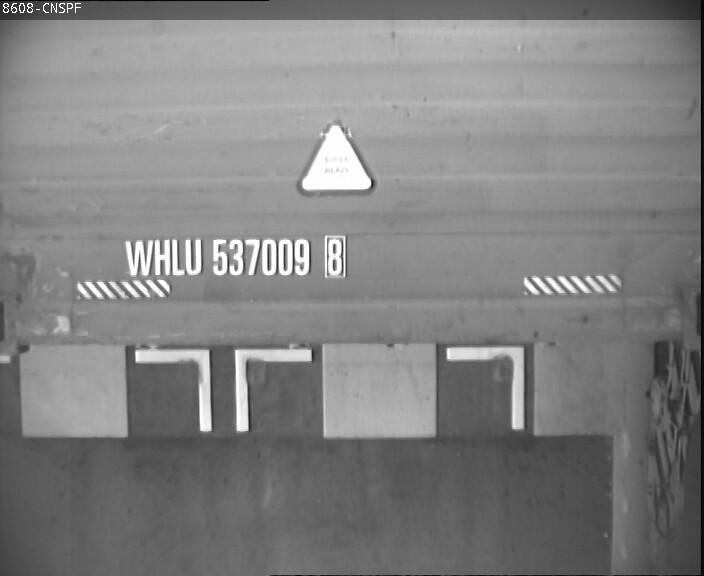groundmarker_1: (132, 346, 314, 434)
